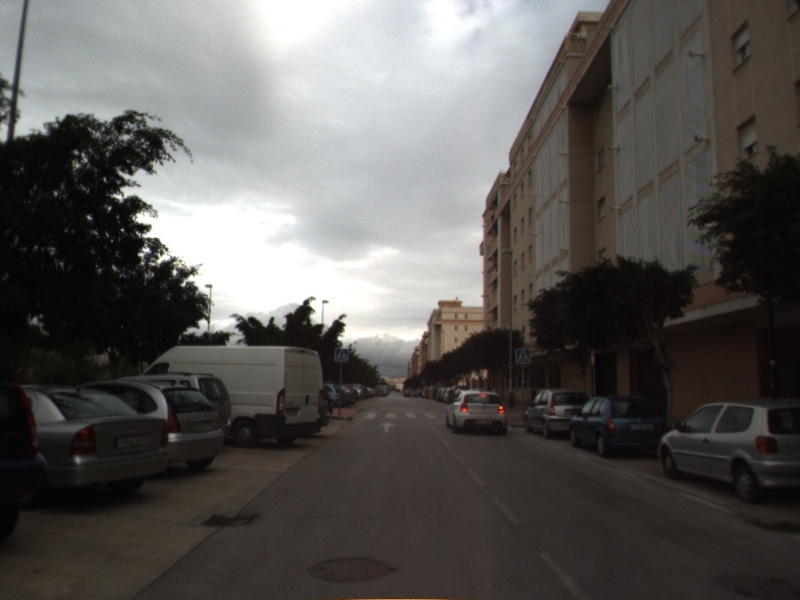STRAIGHT: (377, 420, 398, 434)
